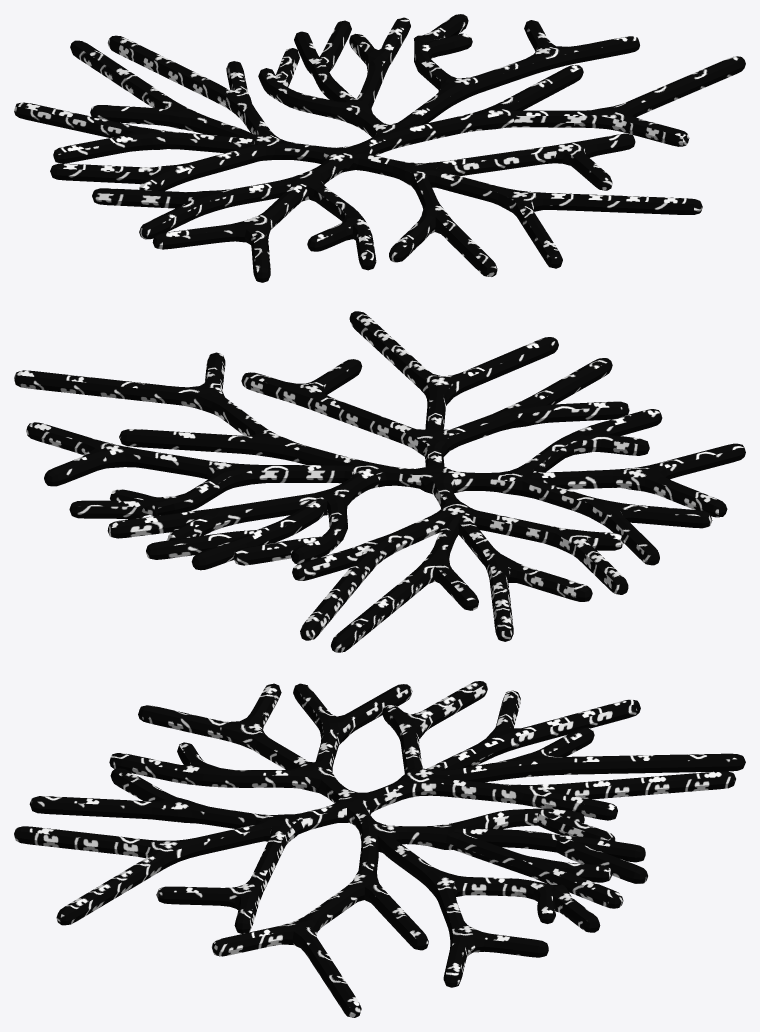
The model's file is Cave 1.fbx.
3 renders of one model, top to bottom at view 1: azimuth 30°, elevation 25°; view 2: azimuth 150°, elevation 25°; view 3: azimuth 270°, elevation 25°, orthographic. The views are drawn at different scales.
Parts seen in each view (by area): view 1: Cube; view 2: Cube; view 3: Cube.
Part boxes in pixels (<box>): Cube: <box>14,14,745,282</box>; Cube: <box>14,311,745,652</box>; Cube: <box>14,681,745,1017</box>.
Bounding box in the file's own units: 1927 × 50 × 1818.
Materials: 1 (1 with a texture image).
